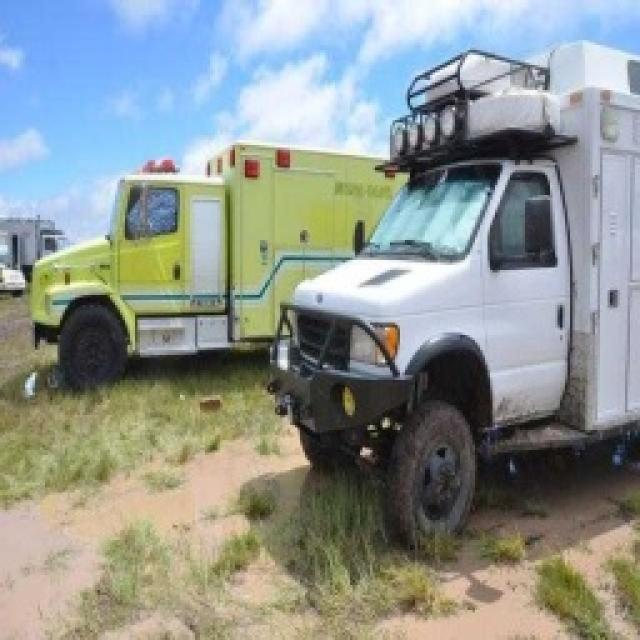emergency-vehicle: (22, 134, 450, 367)
